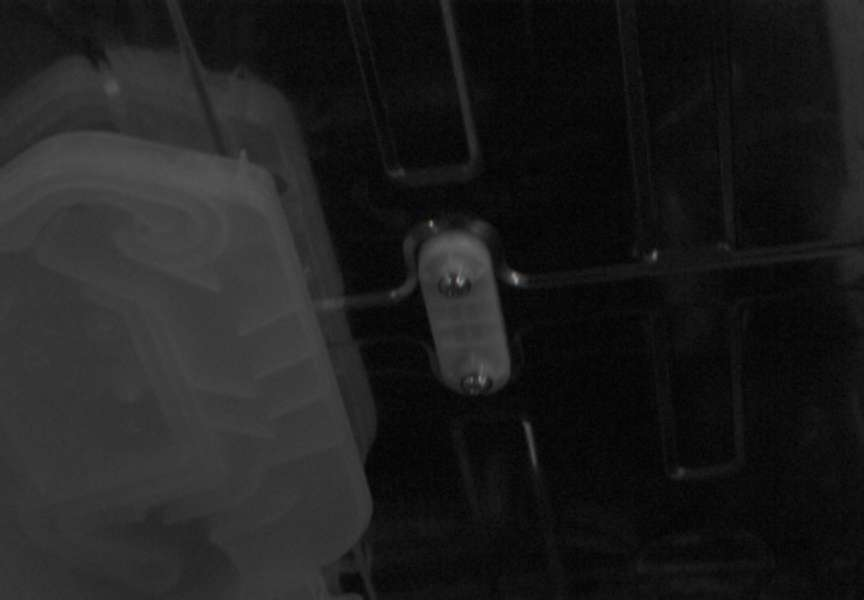screw: (438, 272, 471, 298), (460, 372, 493, 396)
